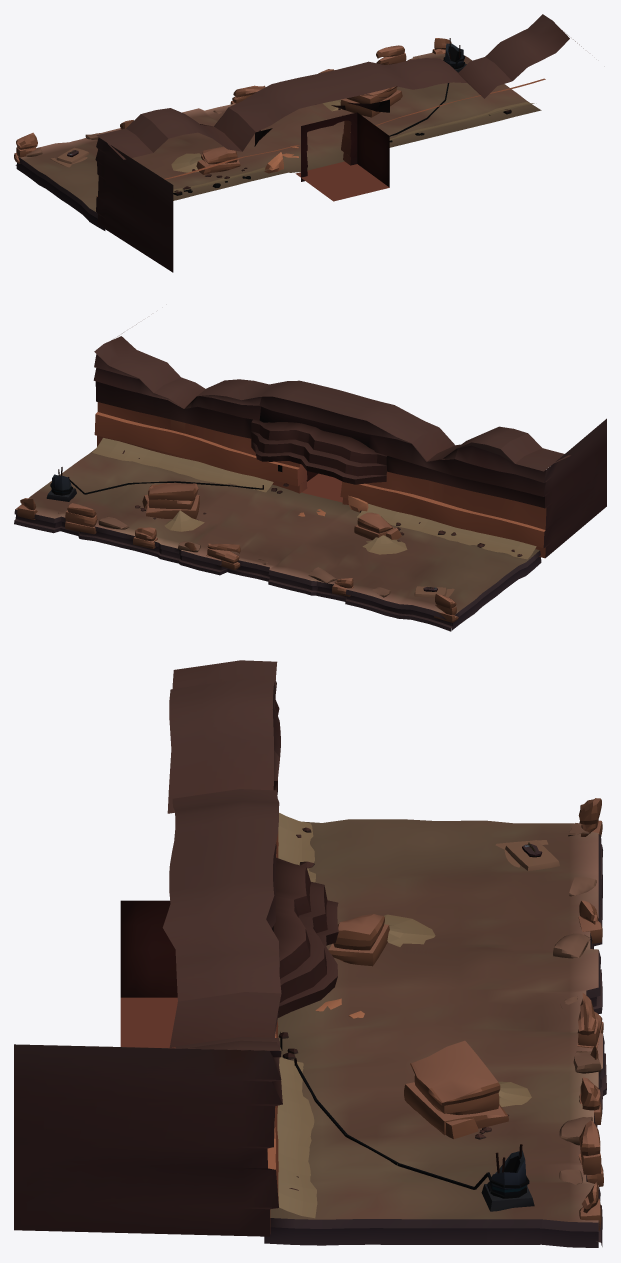
File: env_far_rim.glb
3 views of the same model, one above another, from view 1: azimuth 30°, elevation 25°; view 2: azimuth 150°, elevation 25°; view 3: azimuth 270°, elevation 25° (orthographic). The views are drawn at different scales.
Visible parts, largest first — view 1: chunk_rim_ledge__m_frontier, chunk_rim_ledge__m_sand; view 2: chunk_rim_ledge__m_frontier, chunk_rim_ledge__m_sand; view 3: chunk_rim_ledge__m_frontier, chunk_rim_ledge__m_sand.
Part boxes in pixels (left/top/right/bottom): chunk_rim_ledge__m_frontier: left=14, top=14, right=583, bottom=272; chunk_rim_ledge__m_sand: left=18, top=52, right=541, bottom=212; chunk_rim_ledge__m_frontier: left=14, top=324, right=606, bottom=631; chunk_rim_ledge__m_sand: left=15, top=438, right=539, bottom=614; chunk_rim_ledge__m_frontier: left=14, top=660, right=606, bottom=1247; chunk_rim_ledge__m_sand: left=270, top=813, right=602, bottom=1222.
Size of the model in its own units: 31.8 by 7.48 by 19.43.
